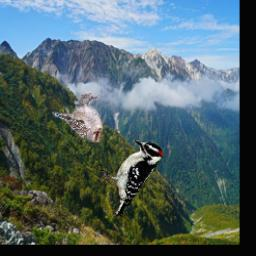Sparrow: (53, 91, 104, 142)
Woodpecker: (96, 140, 164, 217)
